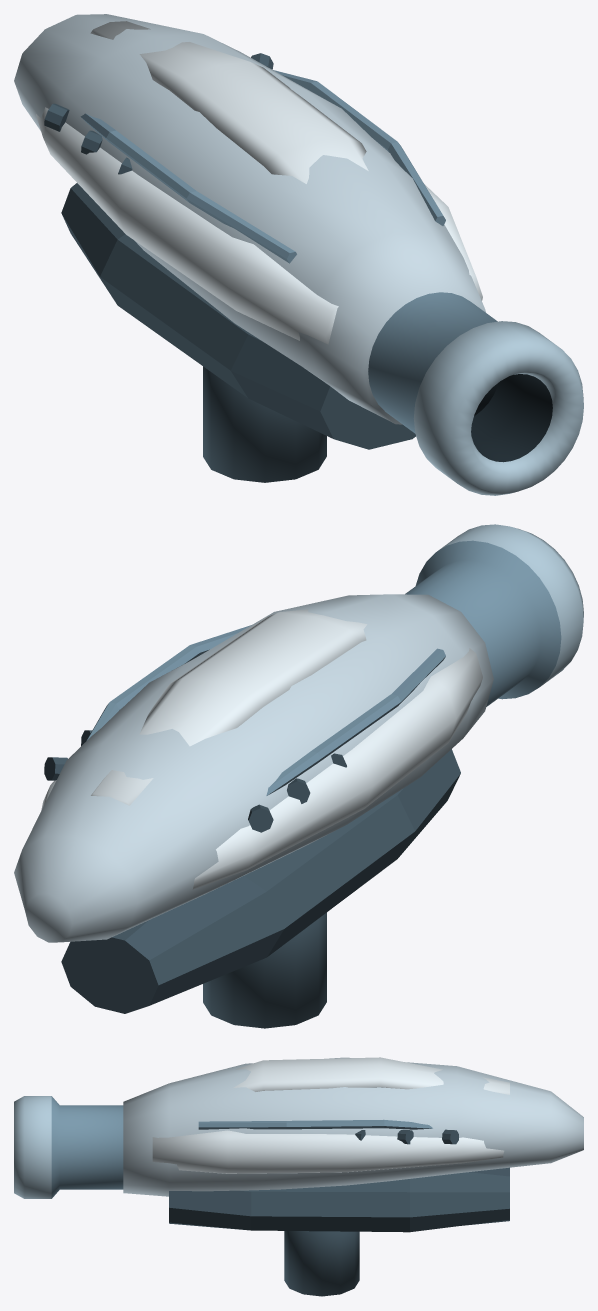
File: cannon_v2.glb
The picture shows the model from 3 angles, top to bottom: view 1: azimuth 30°, elevation 25°; view 2: azimuth 150°, elevation 25°; view 3: azimuth 270°, elevation 25°; orthographic projection. The views are drawn at different scales.
Visible parts, largest first — view 1: Cannon_Main_Shroud, Cannon_Barrel_Hollow, Cannon_Underside_Cradle, Cannon_Armour_Cheek_-1, Cannon_Upper_Ridge, Cannon_Mount_Post, Cannon_Armour_Seam_-1, Cannon_Armour_Seam_1, Cannon_Armour_Cheek_1; view 2: Cannon_Main_Shroud, Cannon_Underside_Cradle, Cannon_Barrel_Hollow, Cannon_Armour_Cheek_-1, Cannon_Upper_Ridge, Cannon_Mount_Post, Cannon_Armour_Seam_-1, Cannon_Armour_Seam_1; view 3: Cannon_Main_Shroud, Cannon_Underside_Cradle, Cannon_Armour_Cheek_1, Cannon_Barrel_Hollow, Cannon_Upper_Ridge, Cannon_Mount_Post, Cannon_Armour_Seam_1.
Part boxes in pixels (x1,y1,x2,y2): Cannon_Main_Shroud: (14, 14, 485, 424); Cannon_Barrel_Hollow: (368, 292, 583, 495); Cannon_Underside_Cradle: (61, 183, 415, 449); Cannon_Armour_Cheek_-1: (36, 107, 338, 344); Cannon_Upper_Ridge: (90, 21, 368, 183); Cannon_Mount_Post: (203, 366, 326, 482); Cannon_Armour_Seam_-1: (80, 113, 296, 263); Cannon_Armour_Seam_1: (273, 70, 445, 225); Cannon_Armour_Cheek_1: (390, 153, 482, 300); Cannon_Main_Shroud: (14, 594, 493, 942); Cannon_Underside_Cradle: (61, 749, 460, 1013); Cannon_Barrel_Hollow: (405, 524, 583, 706); Cannon_Armour_Cheek_-1: (192, 648, 482, 889); Cannon_Upper_Ridge: (91, 609, 367, 805); Cannon_Mount_Post: (203, 912, 326, 1028); Cannon_Armour_Seam_-1: (266, 648, 445, 795); Cannon_Armour_Seam_1: (86, 625, 251, 741); Cannon_Main_Shroud: (123, 1057, 583, 1196); Cannon_Underside_Cradle: (169, 1167, 509, 1232); Cannon_Armour_Cheek_1: (152, 1130, 504, 1173); Cannon_Barrel_Hollow: (14, 1096, 123, 1198); Cannon_Upper_Ridge: (233, 1057, 509, 1094); Cannon_Mount_Post: (284, 1231, 359, 1296); Cannon_Armour_Seam_1: (198, 1119, 432, 1129).
Size of the model in its own units: 1.52 by 2.02 by 4.85.
